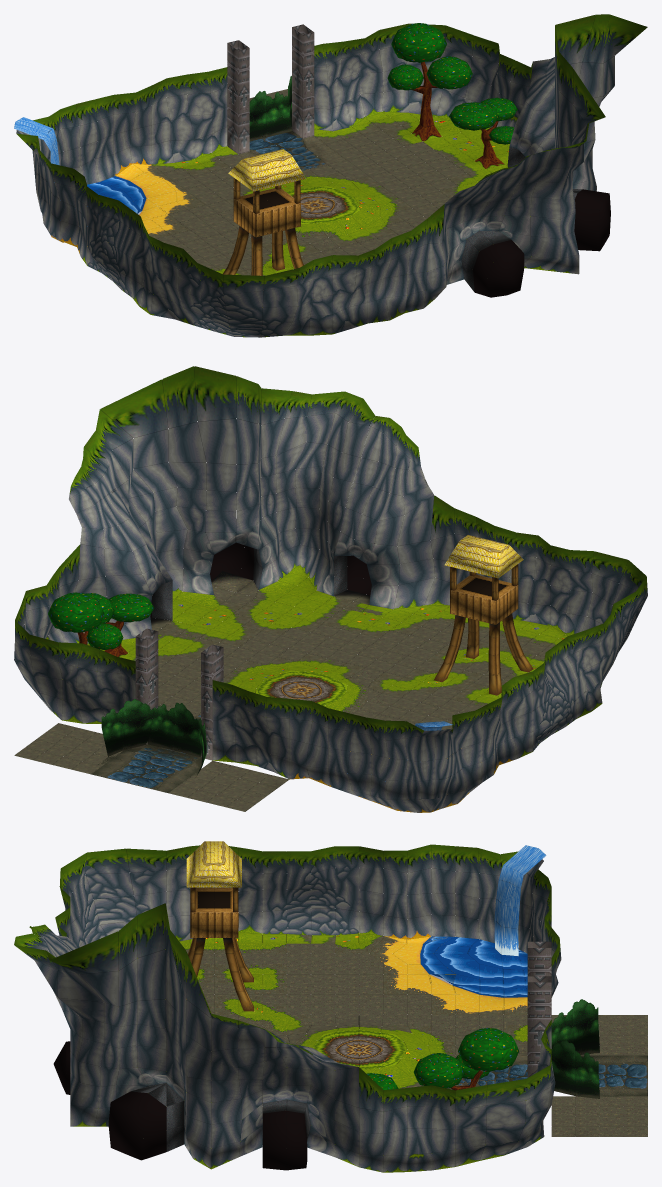
3 views of the same model, one above another, from view 1: azimuth 30°, elevation 25°; view 2: azimuth 150°, elevation 25°; view 3: azimuth 270°, elevation 25° (orthographic). The views are drawn at different scales.
Parts seen in each view (by area): view 1: 1f1c800_8, 1f1c800_31, 1f1c800_5, 1f1c800_4, 1f1c800_7, 1f1c800_30, 1f1c800_27, 1f1c800_22, 1f1c800_6, 1f1c800_29, 1f1c800_14, 1f1c800_26 (+17 smaller); view 2: 1f1c800_26, 1f1c800_31, 1f1c800_30, 1f1c800_22, 1f1c800_20, 1f1c800_3, 1f1c800_28, 1f1c800_1, 1f1c800_4, 1f1c800_8, 1f1c800_5, 1f1c800_29 (+20 smaller); view 3: 1f1c800_31, 1f1c800_26, 1f1c800_15, 1f1c800_9, 1f1c800_3, 1f1c800_20, 1f1c800_8, 1f1c800_14, 1f1c800_22, 1f1c800_27, 1f1c800_1, 1f1c800_21 (+14 smaller).
Boxes of the visible parts, box(x1,y1,x2,y2) form: 1f1c800_8: box(379, 23, 498, 141); 1f1c800_31: box(499, 25, 605, 274); 1f1c800_5: box(151, 67, 243, 196); 1f1c800_4: box(76, 85, 194, 212); 1f1c800_7: box(314, 30, 422, 159); 1f1c800_30: box(427, 154, 534, 297); 1f1c800_27: box(178, 249, 299, 337); 1f1c800_22: box(223, 149, 306, 307); 1f1c800_6: box(227, 24, 346, 170); 1f1c800_29: box(332, 204, 446, 323); 1f1c800_14: box(423, 45, 532, 173); 1f1c800_26: box(530, 14, 647, 216); 1f1c800_26: box(84, 366, 236, 625); 1f1c800_31: box(236, 376, 375, 611); 1f1c800_30: box(314, 416, 434, 630); 1f1c800_22: box(423, 535, 538, 699); 1f1c800_20: box(69, 447, 191, 654); 1f1c800_3: box(367, 704, 487, 812); 1f1c800_28: box(479, 532, 593, 666); 1f1c800_1: box(91, 699, 206, 792); 1f1c800_4: box(289, 699, 377, 803); 1f1c800_8: box(14, 591, 123, 719); 1f1c800_5: box(212, 680, 328, 779); 1f1c800_29: box(391, 495, 516, 648); 1f1c800_31: box(14, 903, 166, 1130); 1f1c800_26: box(165, 904, 264, 1169); 1f1c800_15: box(263, 846, 358, 974); 1f1c800_9: box(359, 844, 455, 974); 1f1c800_3: box(434, 845, 551, 979); 1f1c800_20: box(262, 1029, 359, 1170); 1f1c800_8: box(413, 1028, 551, 1166); 1f1c800_14: box(359, 1067, 455, 1172); 1f1c800_22: box(186, 841, 262, 1014); 1f1c800_27: box(59, 848, 166, 971); 1f1c800_1: box(551, 999, 647, 1098); 1f1c800_21: box(166, 845, 262, 974).
Bounding box in the file's own units: 26.36 × 11.53 × 26.34.
1 material, 1 textured.
